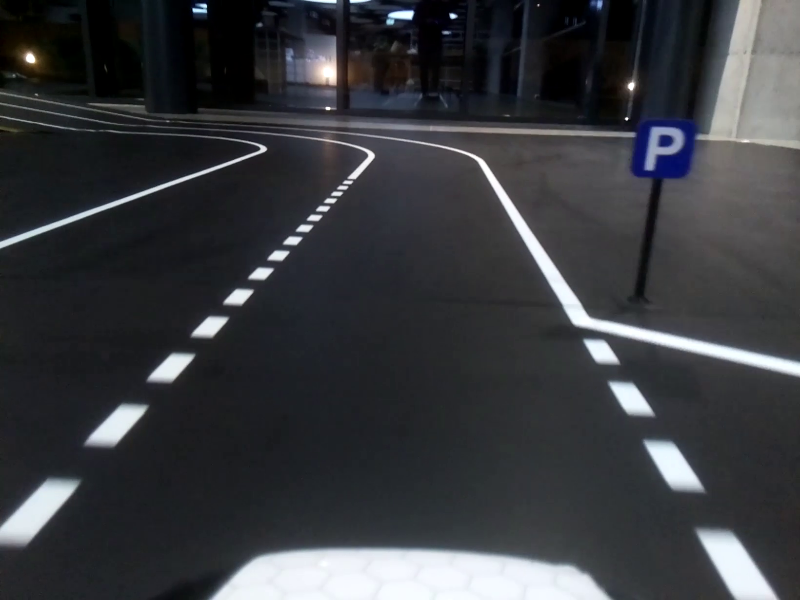park: (637, 116, 690, 179)
